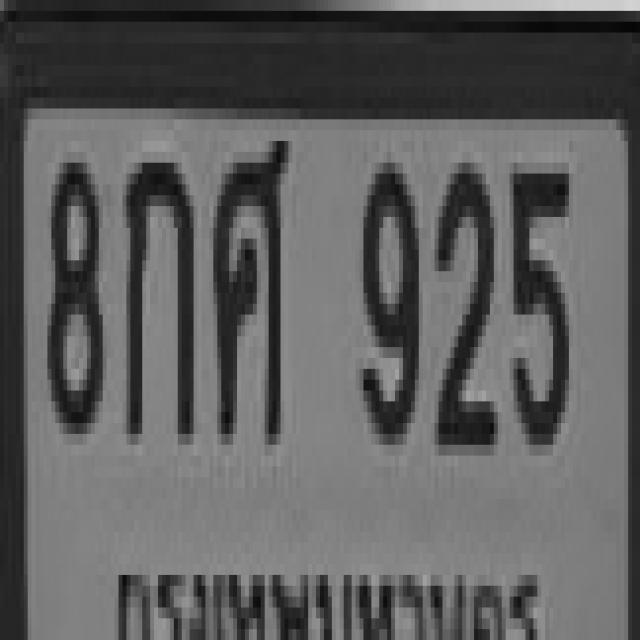10GorGai: (122, 152, 190, 434)
2: (432, 152, 492, 445)
47SorSala: (210, 130, 284, 434)
5: (510, 163, 565, 434)
8: (43, 152, 99, 423)
9: (359, 152, 415, 434)
